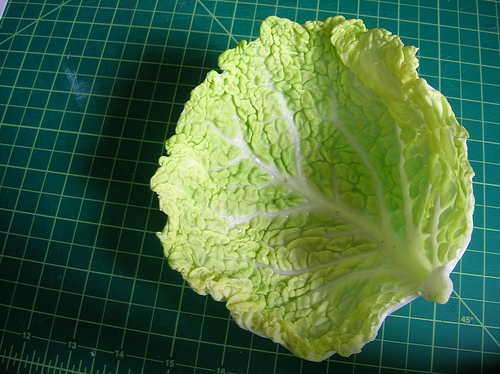cabbage: (148, 13, 477, 364)
